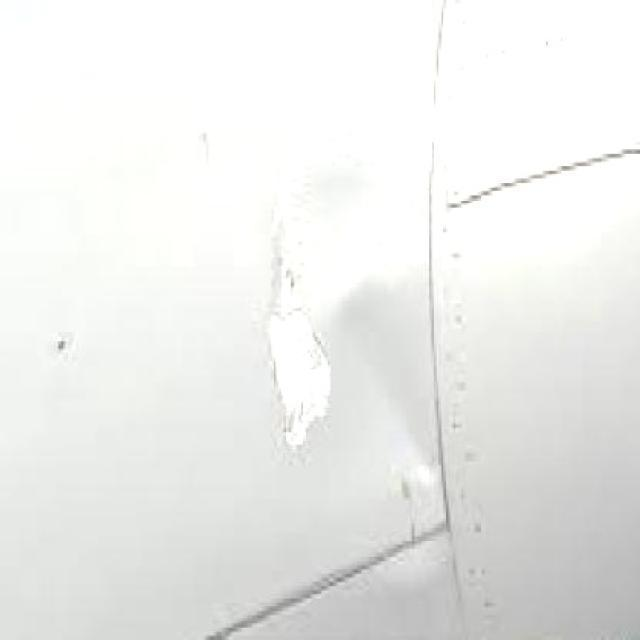dent: (256, 163, 330, 454)
